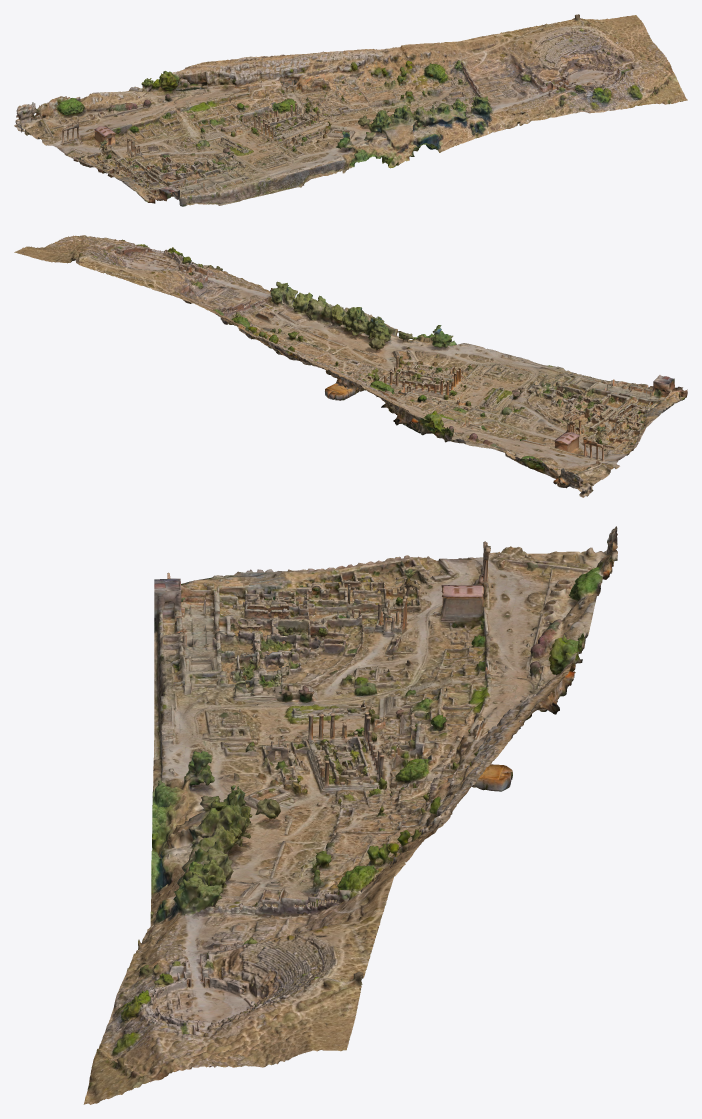
3 renders of one model, top to bottom at view 1: azimuth 30°, elevation 25°; view 2: azimuth 150°, elevation 25°; view 3: azimuth 270°, elevation 25°, orthographic. The views are drawn at different scales.
Parts seen in each view (by area): view 1: LBY_001_M2_Temple-Amphitheatre; view 2: LBY_001_M2_Temple-Amphitheatre; view 3: LBY_001_M2_Temple-Amphitheatre.
Boxes of the visible parts, bbox=[...] form: LBY_001_M2_Temple-Amphitheatre: bbox=[14, 14, 687, 206]; LBY_001_M2_Temple-Amphitheatre: bbox=[14, 235, 687, 497]; LBY_001_M2_Temple-Amphitheatre: bbox=[83, 526, 617, 1104].
Size of the model in its own units: 380 by 37.84 by 159.
Materials: 1 (1 with a texture image).
